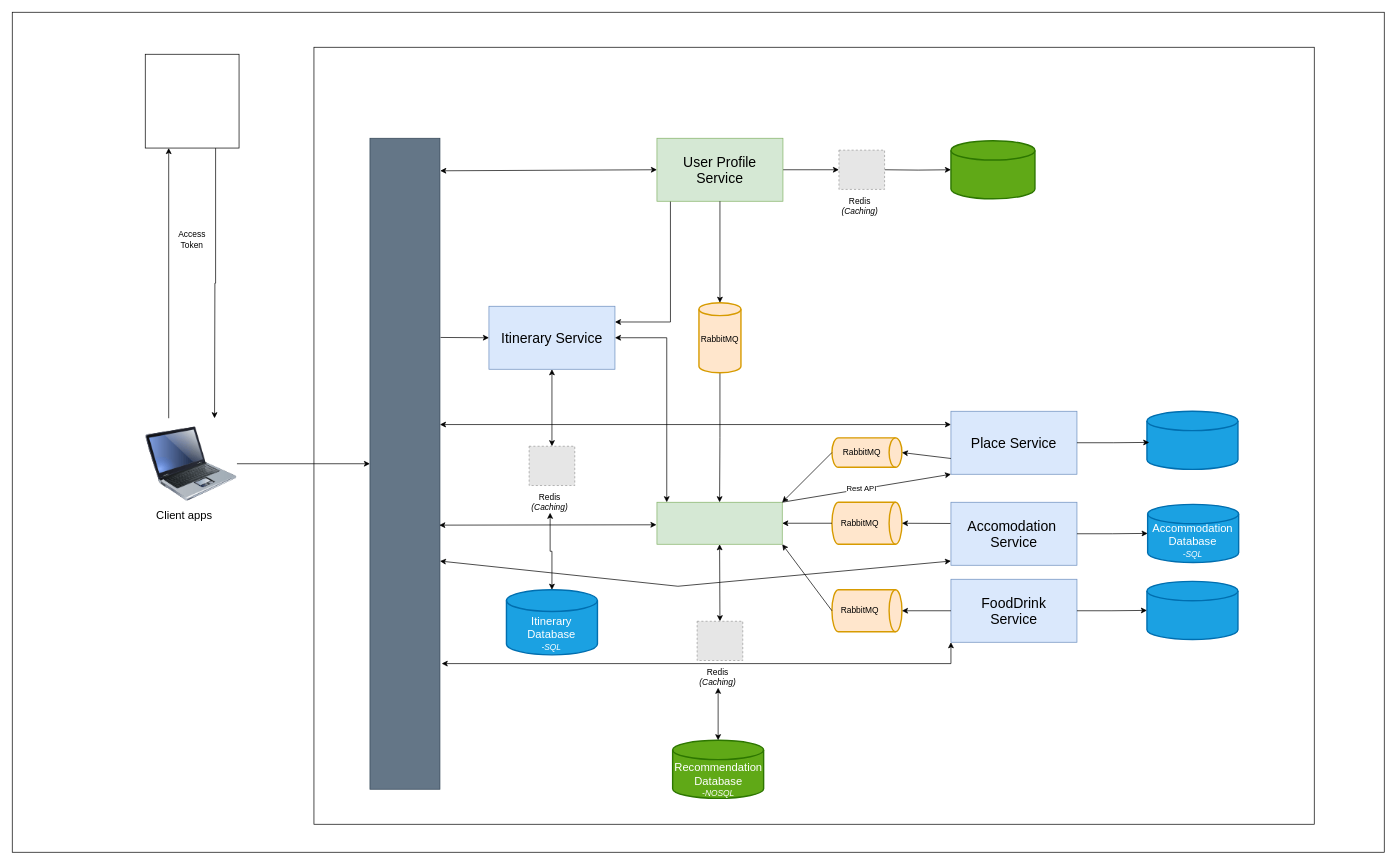
This 1397x865 diagram has some shape labels left out. Grey dashed boxes stand in for pictures. Each missing label, with the centre of its shape:
"API Gateway" goes at [404,463].
"FoodDrink Database -SQL" goes at [1192,610].
"Identity Provider" goes at [192,101].
"Place Database -SQL" goes at [1192,440].
"Recommendation Service" goes at [719,523].
"User Database -NOSQL" goes at [992,169].
